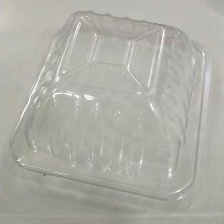plastic_box: (0, 3, 218, 219)
